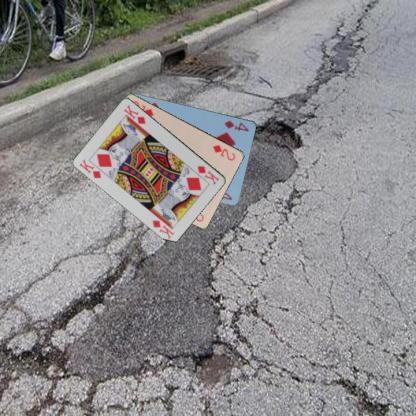2d: (210, 142, 237, 162)
4d: (222, 118, 250, 132)
Kd: (77, 156, 103, 180), (195, 163, 220, 186)
